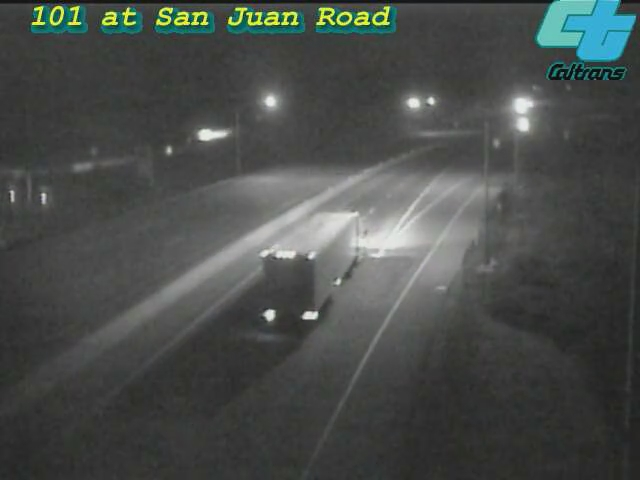vehicle: (268, 237, 348, 317), (493, 100, 543, 150), (494, 82, 544, 132)
